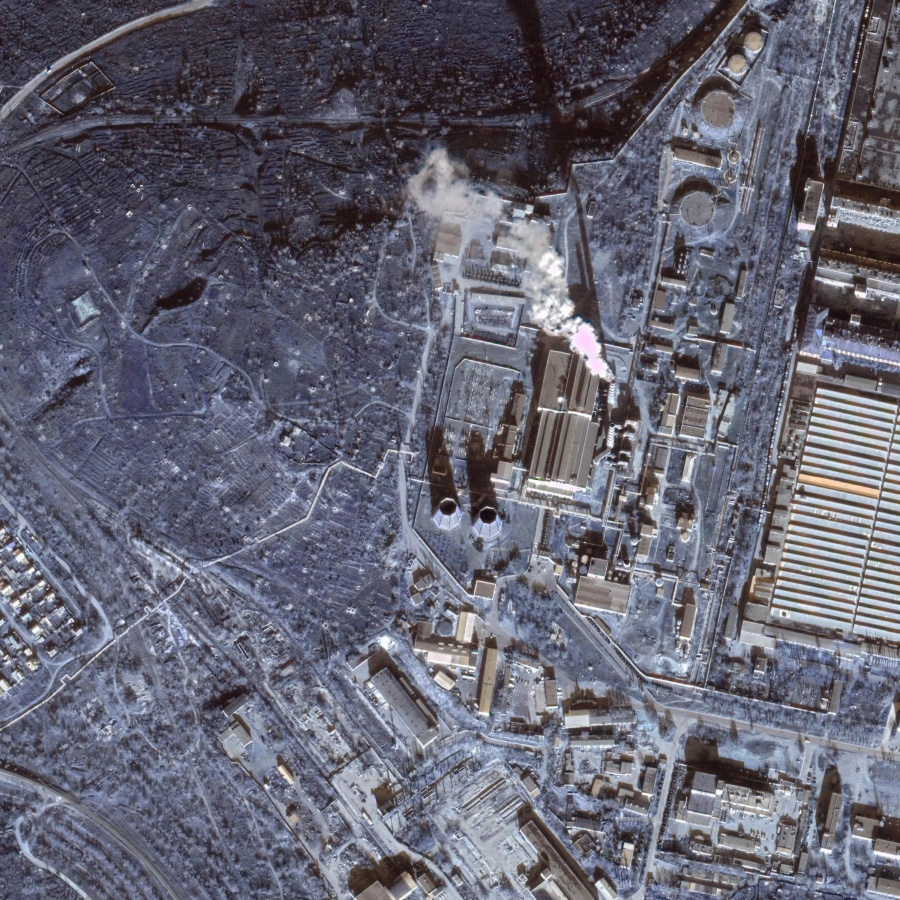PowerPlant: (419, 291, 642, 552)
